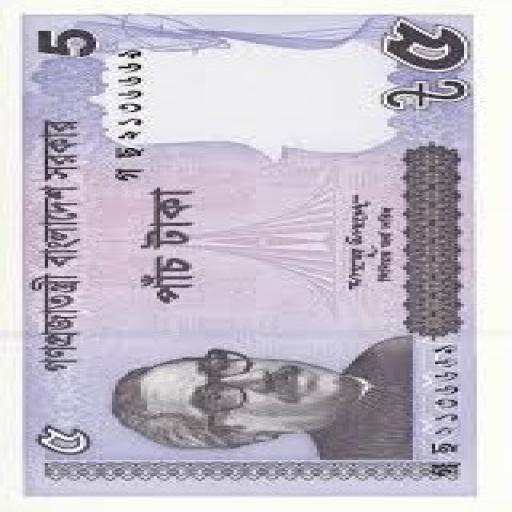5taka: (22, 11, 470, 496)
